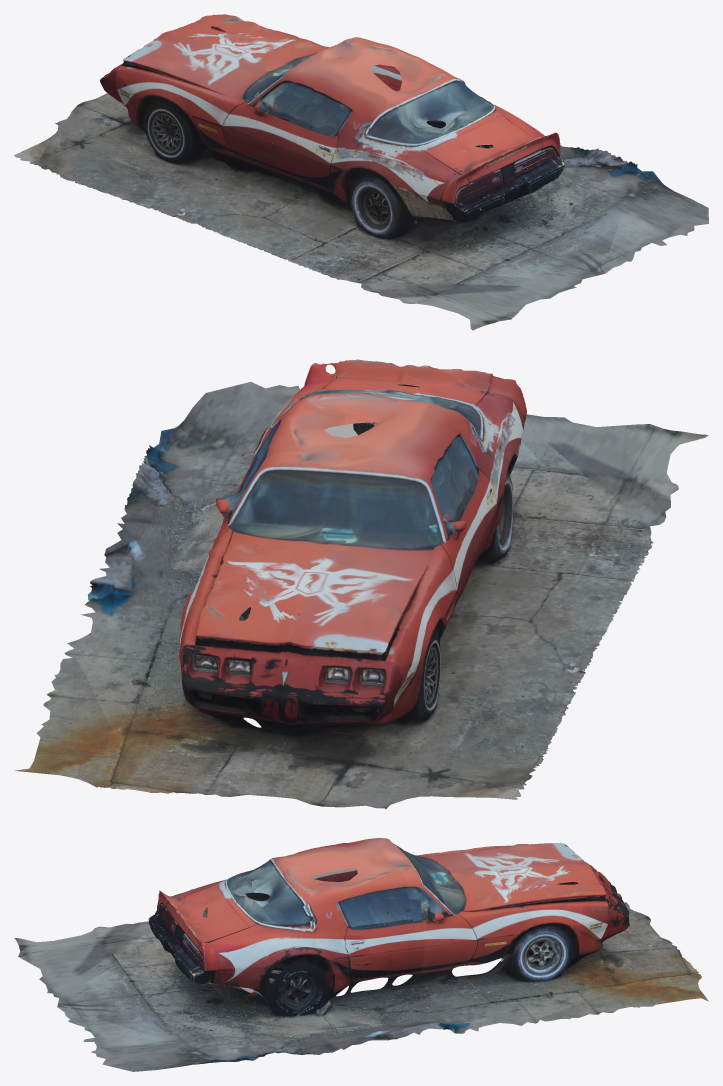
The model's file is pontiac_firebird_formula_1974.glb.
The picture shows the model from 3 angles, top to bottom: view 1: azimuth 30°, elevation 25°; view 2: azimuth 150°, elevation 25°; view 3: azimuth 270°, elevation 25°; orthographic projection. The views are drawn at different scales.
Parts seen in each view (by area): view 1: Object_3, Object_5, Object_4, Object_2; view 2: Object_5, Object_2, Object_3, Object_4; view 3: Object_2, Object_4, Object_3, Object_5.
Part boxes in pixels (x1,y1,x2,y2): Object_3: [158, 14, 651, 274]; Object_5: [49, 15, 615, 330]; Object_4: [43, 41, 641, 215]; Object_2: [14, 26, 708, 245]; Object_5: [15, 362, 708, 808]; Object_2: [47, 371, 530, 799]; Object_3: [138, 365, 631, 719]; Object_4: [36, 359, 576, 796]; Object_2: [83, 843, 662, 1071]; Object_4: [186, 858, 701, 1061]; Object_3: [57, 838, 625, 1040]; Object_5: [14, 838, 708, 1058].
Bounding box in the file's own units: 5.29 × 1.37 × 7.35.
Materials: 5 (4 with a texture image).
